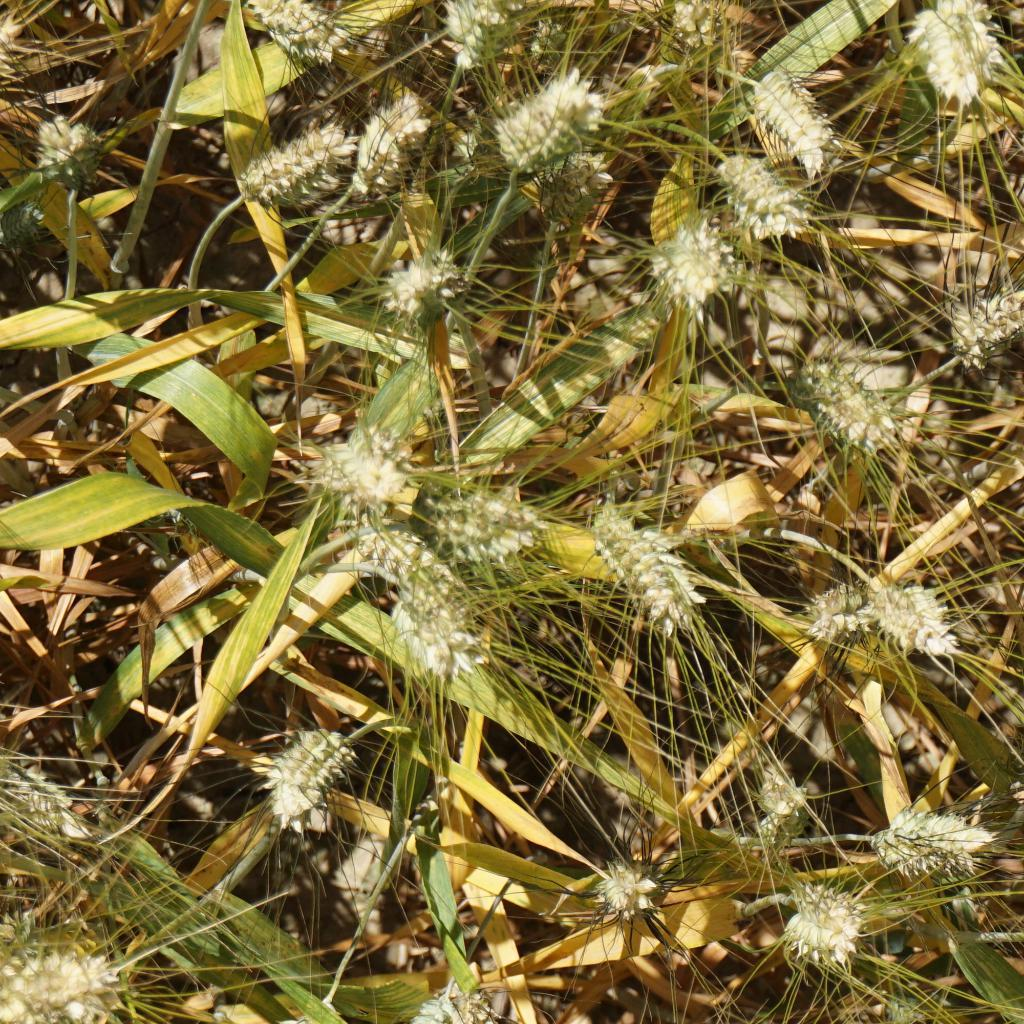0-0: (790, 331, 908, 480), (425, 478, 560, 567), (602, 507, 688, 630), (871, 802, 995, 886), (915, 6, 1009, 107), (936, 273, 1024, 374), (385, 582, 474, 677), (784, 871, 865, 972), (4, 742, 82, 846), (248, 114, 340, 198), (712, 158, 805, 241), (310, 430, 411, 504), (504, 70, 599, 148), (747, 69, 828, 155), (871, 573, 950, 659), (259, 724, 342, 805), (352, 96, 421, 191), (0, 945, 105, 1007), (653, 217, 733, 297), (432, 0, 522, 69), (373, 249, 465, 316), (364, 515, 454, 581), (261, 0, 352, 64), (31, 111, 107, 186), (804, 575, 876, 647), (757, 753, 817, 835), (546, 142, 611, 214), (642, 0, 727, 52), (602, 854, 668, 920), (528, 13, 582, 66), (0, 188, 43, 246), (0, 24, 22, 128), (441, 996, 504, 1024), (256, 999, 320, 1024), (390, 996, 438, 1024)
